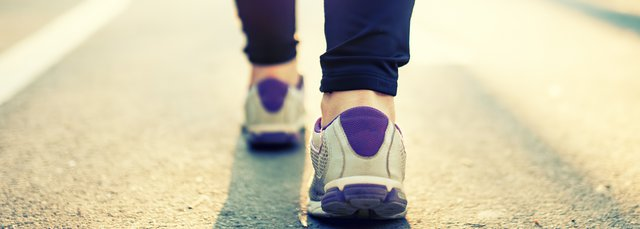feet: (226, 26, 422, 229)
